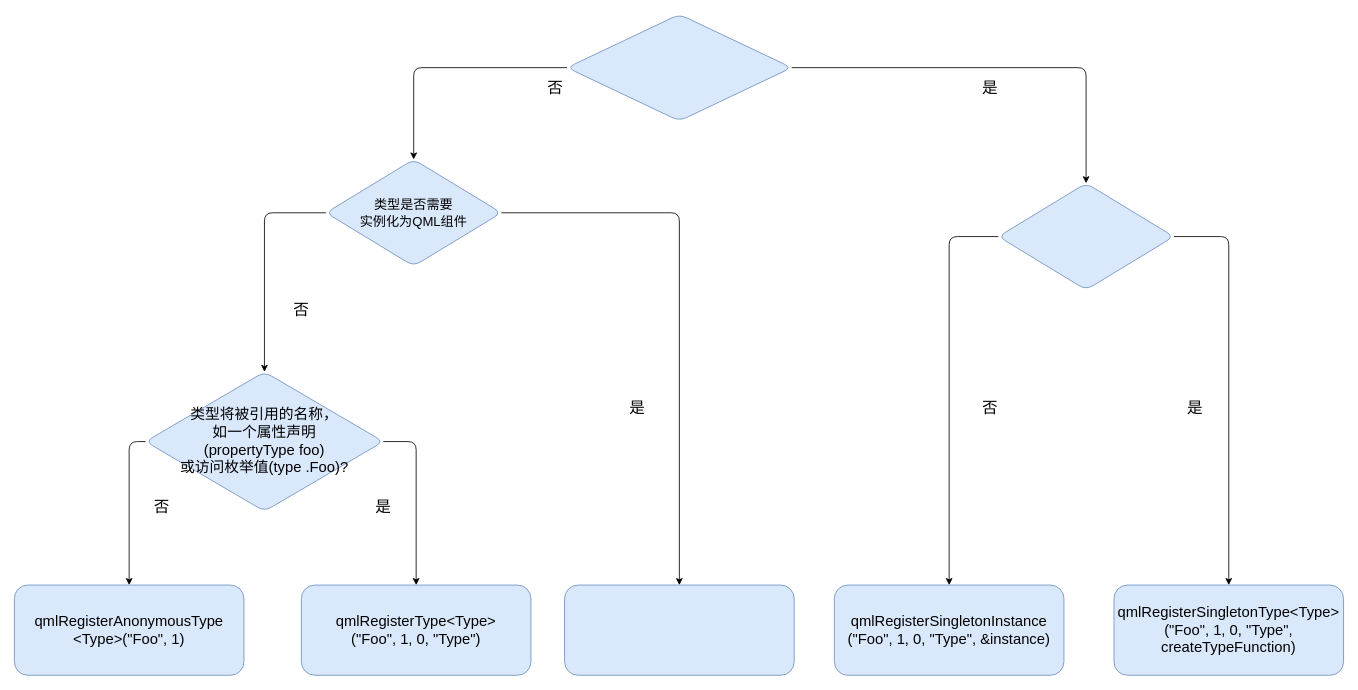
Some shapes in this 1358 by 690 pixel diagram are drawn without their labels. The shapes that lost their labels are listed below. From the top down, each one's centre as x and y in pixels, then its label:
(679,67): 类型是否为单例模式
(1086,236): 类型是否在多引擎下可用
(679,629): qmlRegisterType<Type> ("Foo", 1, 0, "Type)
